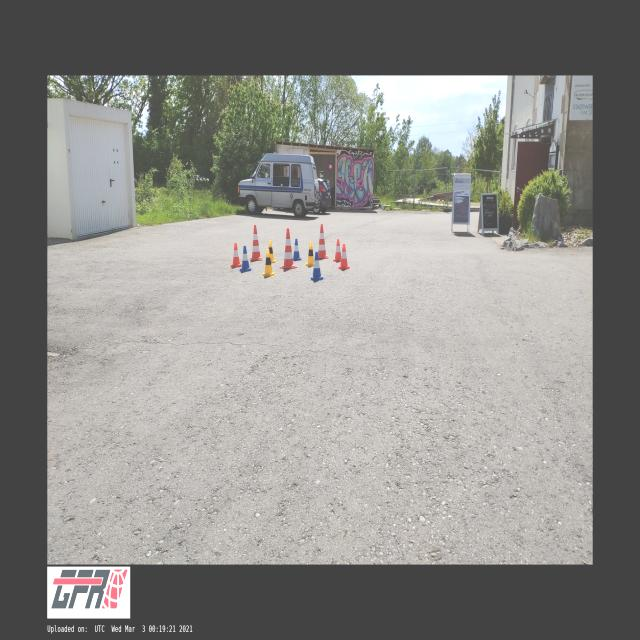blue_cone: (310, 252, 324, 280), (240, 246, 252, 271), (294, 239, 302, 261)
large_orange_cone: (280, 229, 297, 269), (250, 225, 262, 261), (318, 224, 328, 258)
orange_cone: (339, 244, 349, 268), (232, 244, 242, 268), (333, 239, 342, 261)
yellow_cone: (263, 250, 275, 276), (305, 242, 315, 266), (268, 241, 276, 263)
